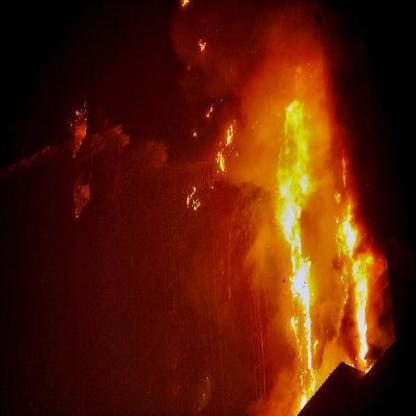fire: (267, 74, 379, 401), (173, 7, 241, 222)
